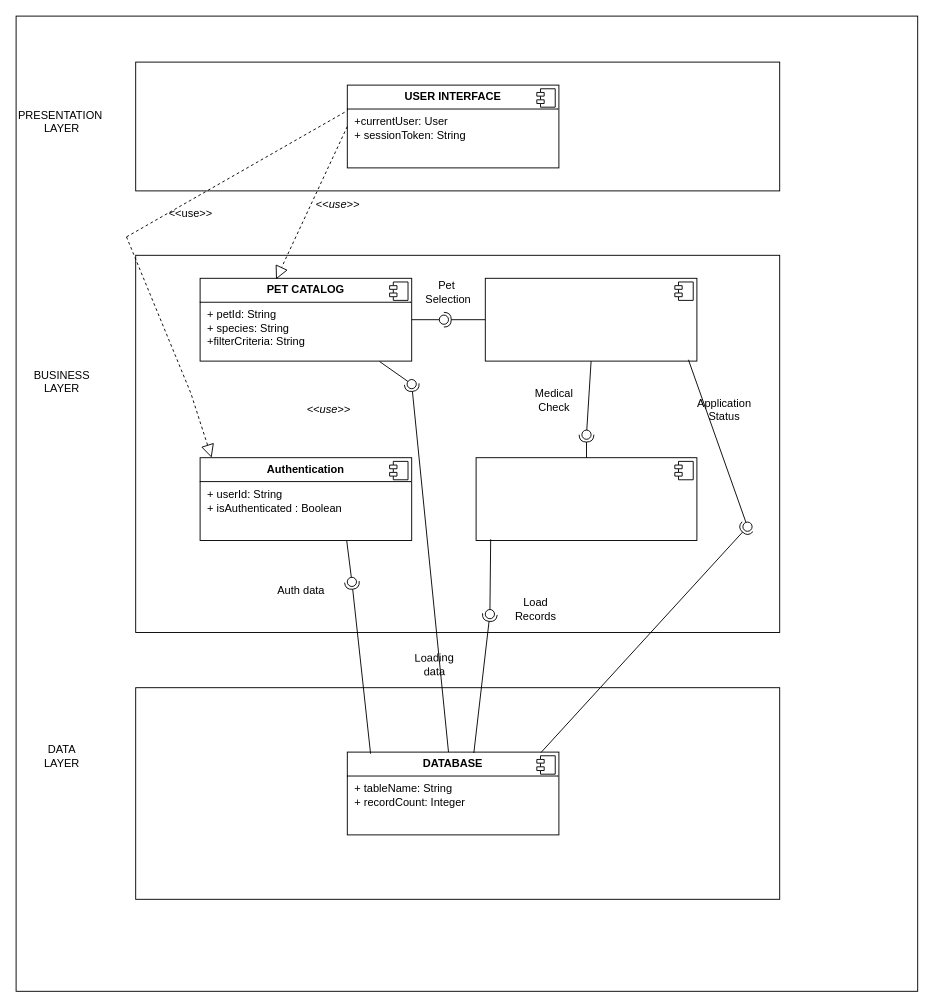
This 934x1007 diagram has some shape labels left out. The centre of each missing label's shape, as x and y in pixels:
"Adoption Application Manager + applicationId: String + applicationStatus: String" belongs at point (590, 319).
"Medical Records + recordId: String + vaccinationStatus: Boolean" belongs at point (586, 498).
